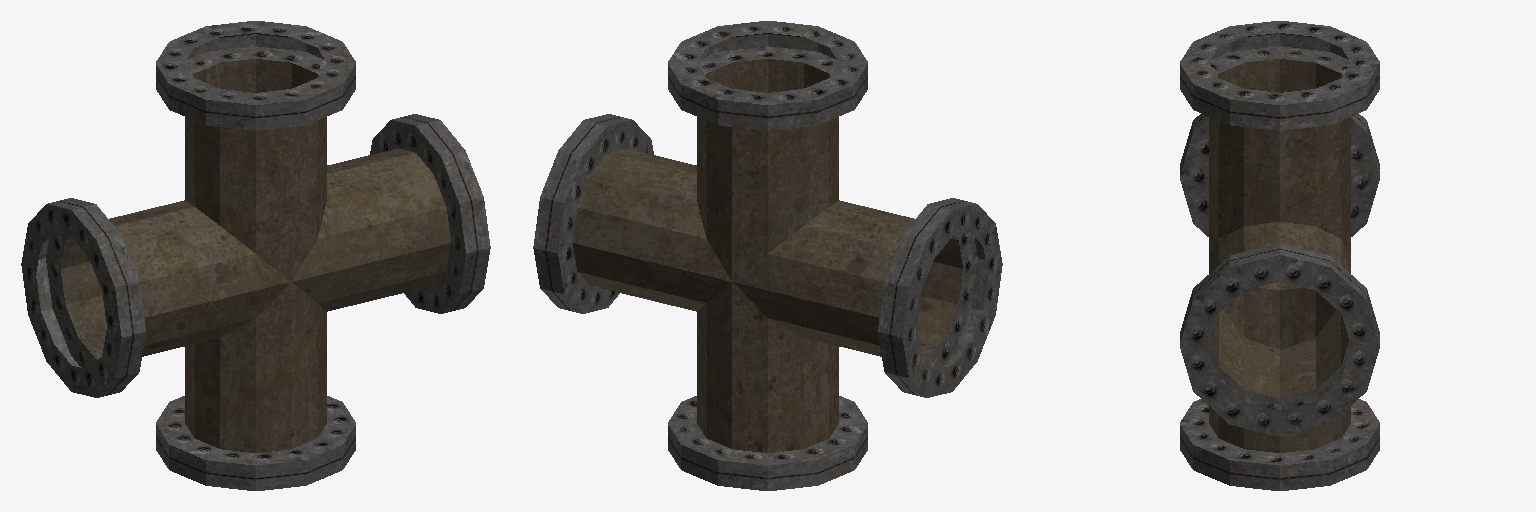
3 views of the same model, side by side, from view 1: azimuth 30°, elevation 25°; view 2: azimuth 150°, elevation 25°; view 3: azimuth 270°, elevation 25° (orthographic).
Visible parts, largest first — view 1: crosspiece_closed; view 2: crosspiece_closed; view 3: crosspiece_closed.
Part boxes in pixels (x1,y1,x2,y2): crosspiece_closed: (21,21,490,490); crosspiece_closed: (533,21,1002,490); crosspiece_closed: (1180,21,1379,490).
Bounding box in the file's own units: 1.5 × 1.5 × 0.7071.
1 materials, 1 textured.